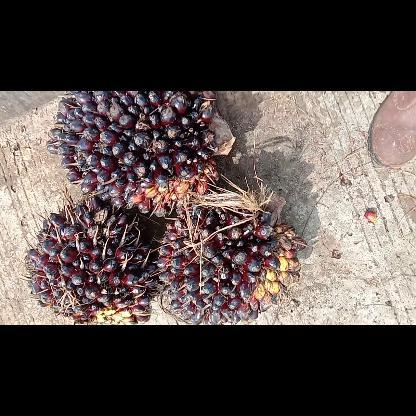TBS mentah: (44, 90, 240, 218), (154, 186, 312, 324), (22, 196, 160, 324)
